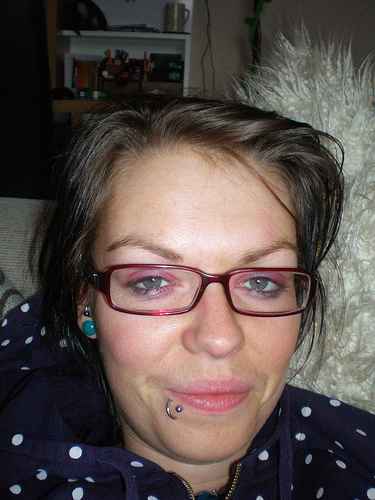without_mask: (70, 135, 332, 473)
